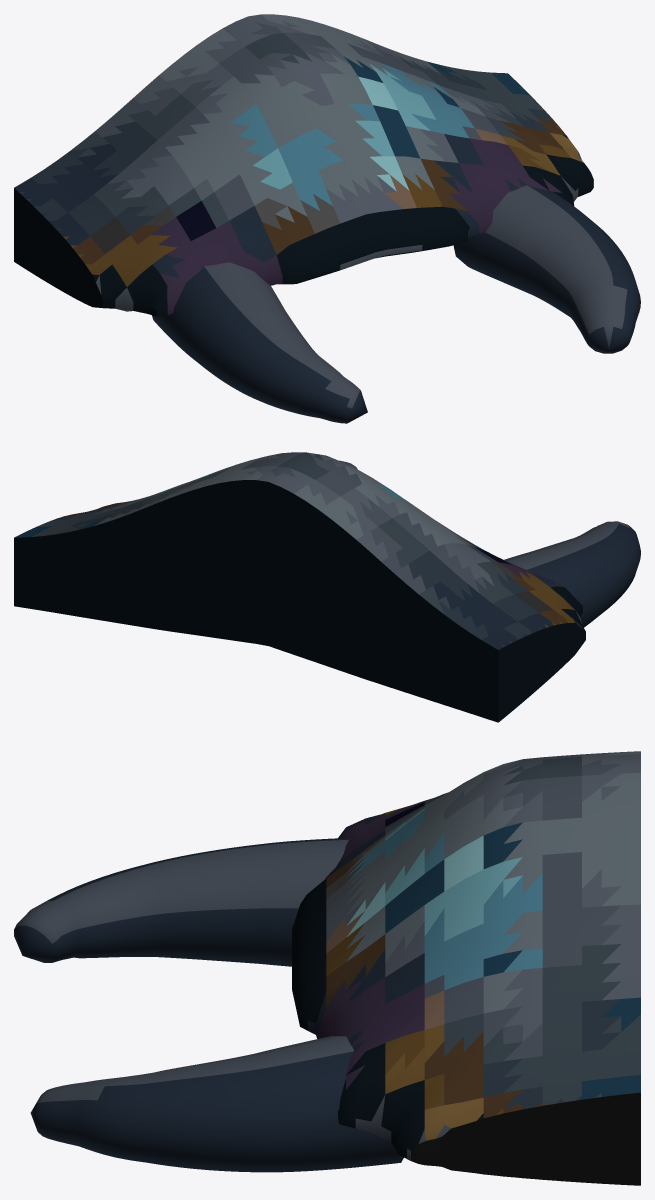
File: coral_manta_head.glb
3 renders of one model, top to bottom at view 1: azimuth 30°, elevation 25°; view 2: azimuth 150°, elevation 25°; view 3: azimuth 270°, elevation 25°, orthographic. The views are drawn at different scales.
Parts seen in each view (by area): view 1: coral_manta_head_body, coral_manta_head_horn-1, coral_manta_head_horn1; view 2: coral_manta_head_body, coral_manta_head_horn-1; view 3: coral_manta_head_body, coral_manta_head_horn1, coral_manta_head_horn-1.
Boxes of the visible parts, box(x1,y1,x2,y2) form: coral_manta_head_body: box(14, 14, 593, 316); coral_manta_head_horn-1: box(152, 262, 367, 423); coral_manta_head_horn1: box(453, 185, 640, 353); coral_manta_head_body: box(14, 452, 585, 722); coral_manta_head_horn-1: box(504, 521, 640, 627); coral_manta_head_body: box(292, 751, 640, 1185); coral_manta_head_horn1: box(30, 1035, 403, 1172); coral_manta_head_horn-1: box(14, 838, 348, 966).
Bounding box in the file's own units: 24 × 10.1 × 19.77.
